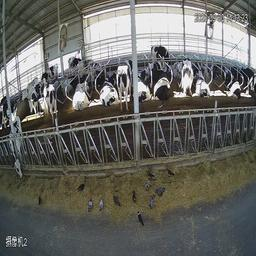cow: (112, 48, 132, 117), (7, 111, 25, 187), (42, 78, 60, 132), (102, 67, 121, 115), (152, 63, 172, 108), (72, 78, 96, 115), (222, 68, 245, 104), (197, 63, 212, 110), (148, 35, 171, 65), (25, 81, 40, 124), (138, 65, 153, 107), (182, 60, 196, 104), (240, 55, 255, 95), (67, 50, 81, 69)
